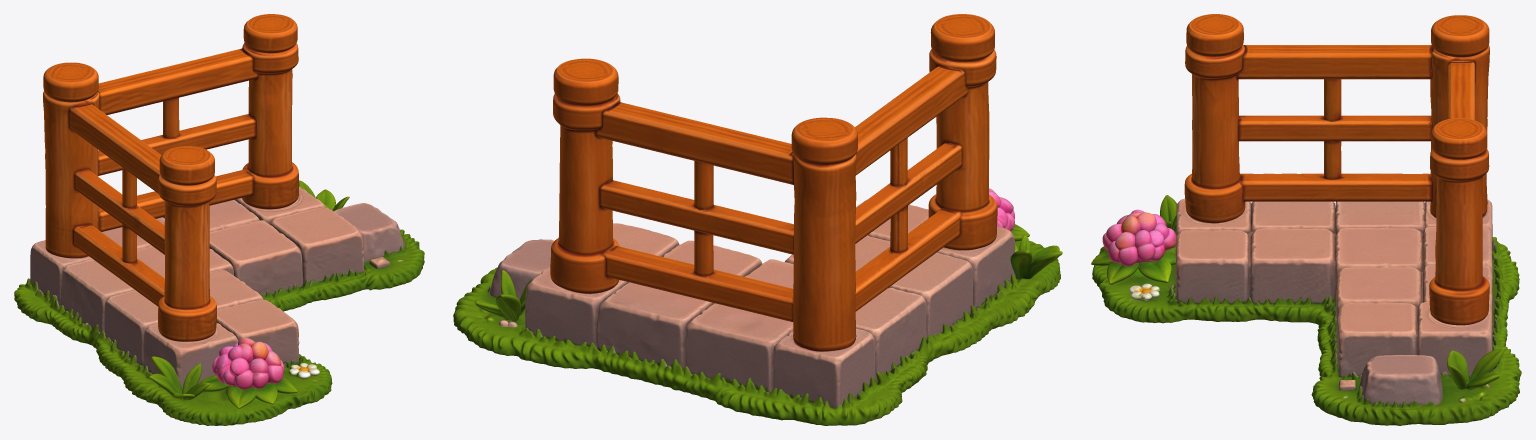
File: wood-fence-stone-corner-01.glb
The picture shows the model from 3 angles, left to right: view 1: azimuth 30°, elevation 25°; view 2: azimuth 150°, elevation 25°; view 3: azimuth 270°, elevation 25°; orthographic projection. The views are drawn at different scales.
Bounding box in the file's own units: 1.89 × 1.11 × 1.8.
1 material, 1 textured.
